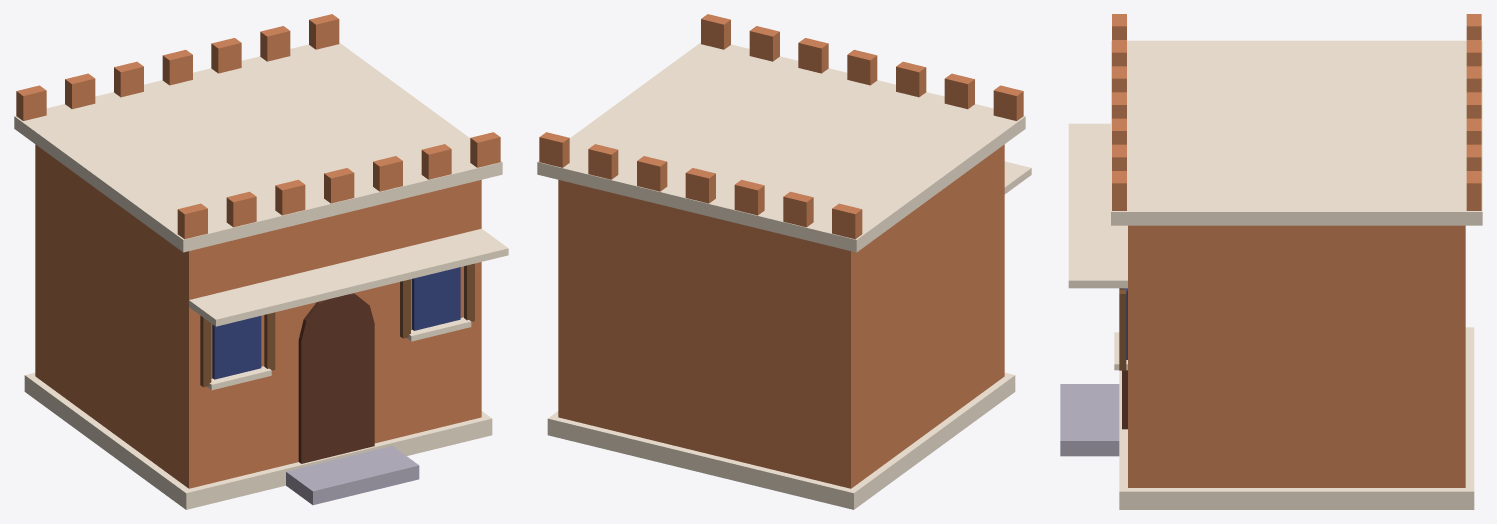
Rendered from house_a.glb.
3 views of the same model, side by side, from view 1: azimuth 30°, elevation 25°; view 2: azimuth 150°, elevation 25°; view 3: azimuth 270°, elevation 25° (orthographic). The views are drawn at different scales.
Visible parts, largest first — view 1: house_a; view 2: house_a; view 3: house_a.
Boxes of the visible parts, box(x1,y1,x2,y2) form: house_a: box(14, 14, 508, 509); house_a: box(537, 14, 1031, 509); house_a: box(1060, 14, 1482, 509).
Size of the model in its own units: 4.8 by 4.3 by 5.
